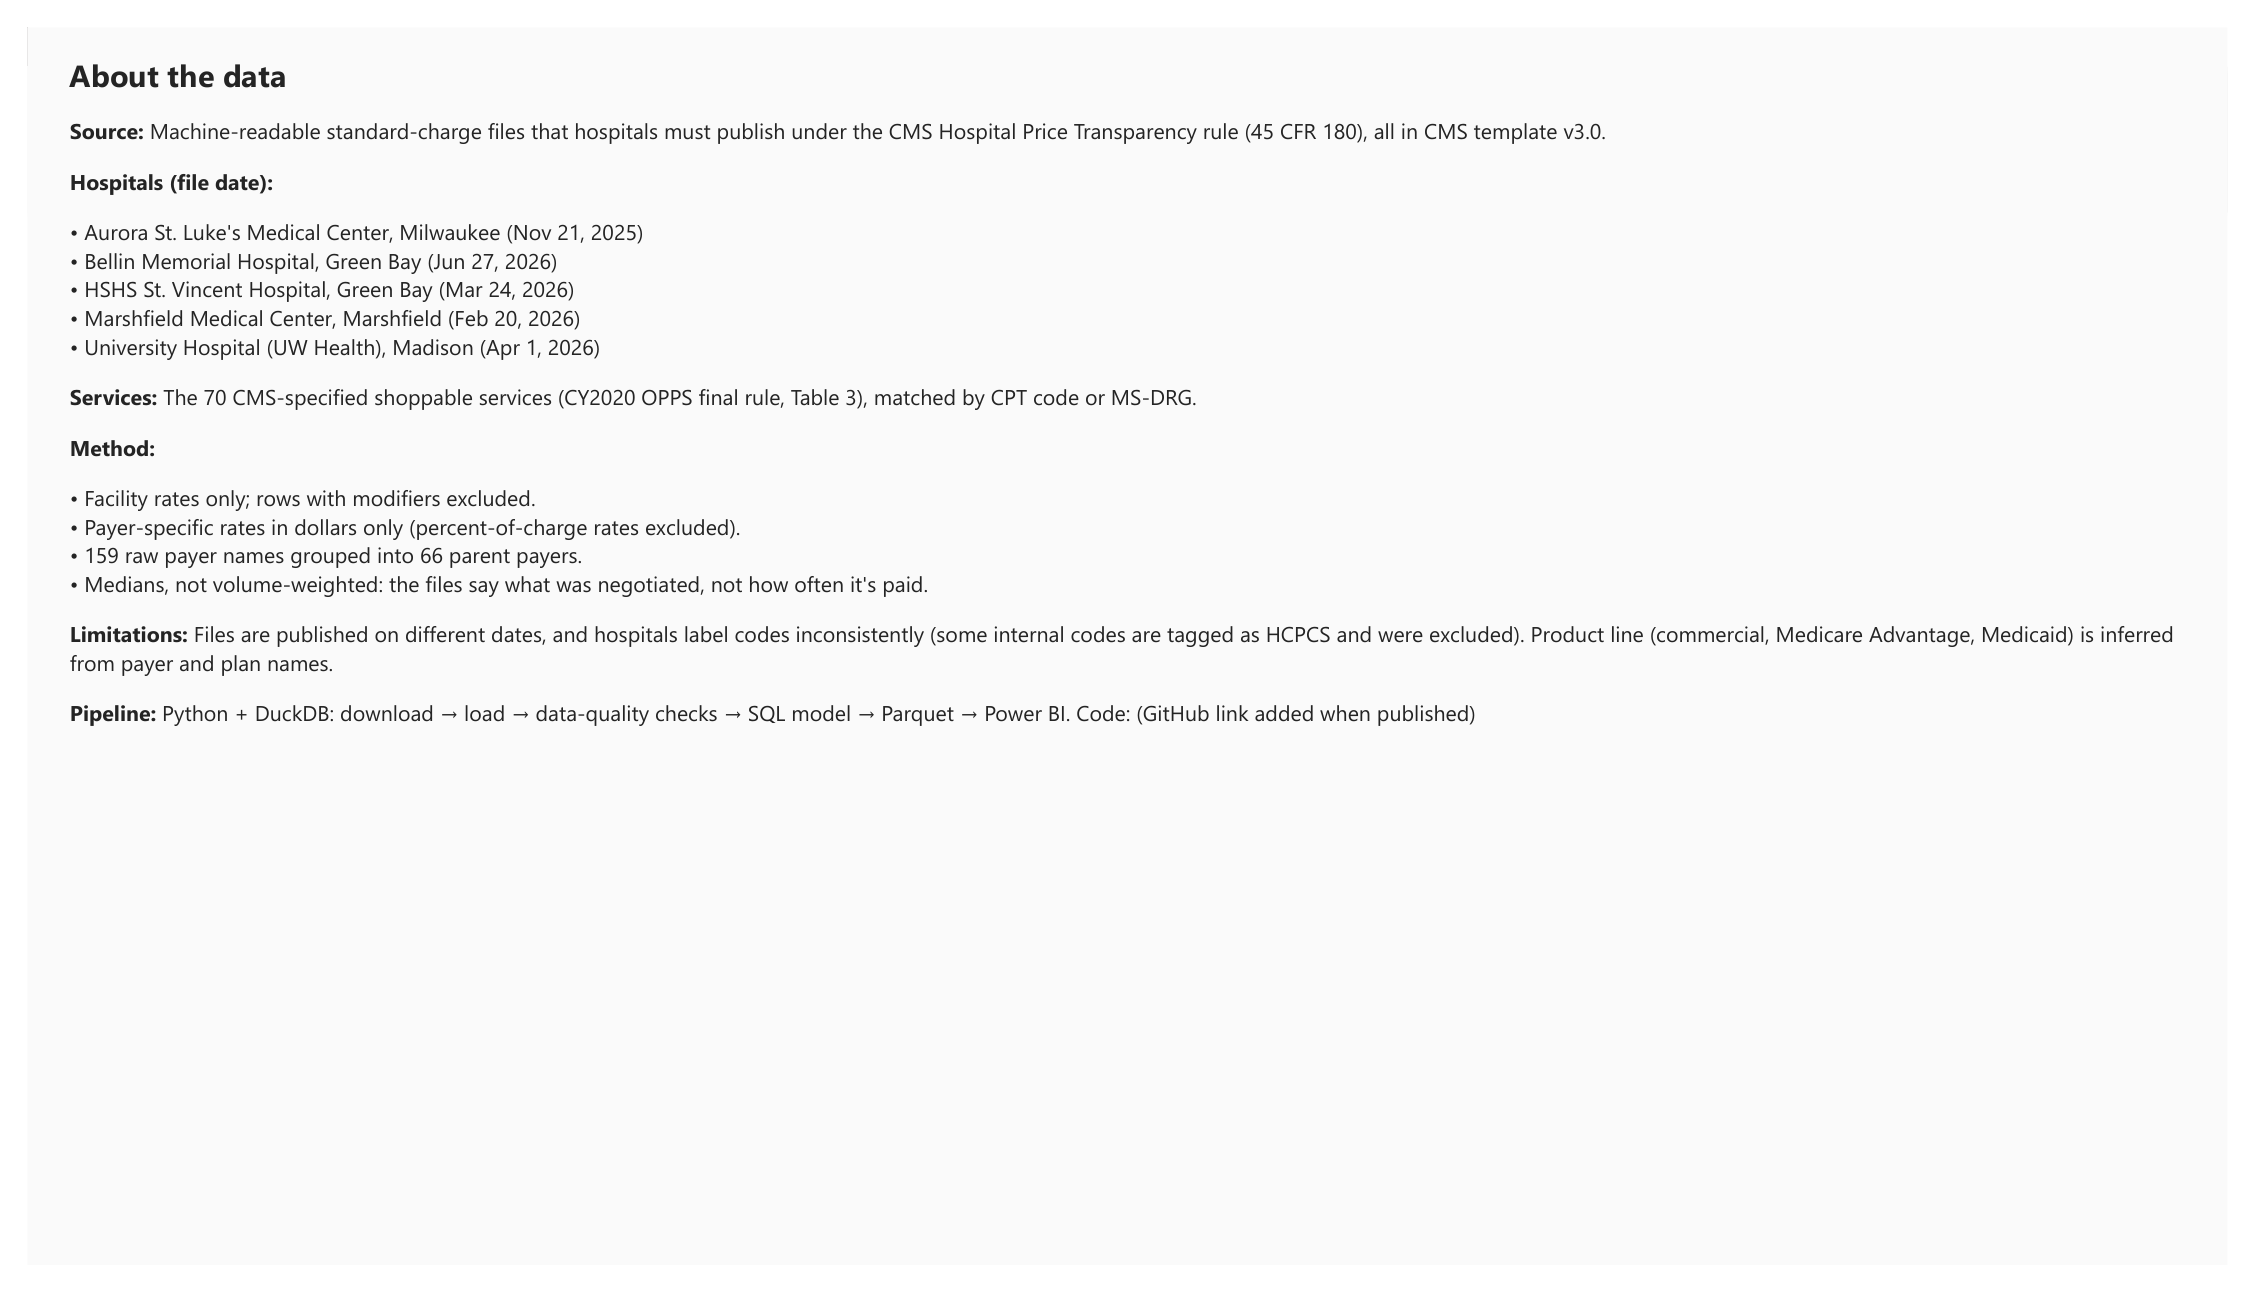

What the dashboard file says about the page in this screenshot:
{"tool":"powerbi","page":{"name":"About the Data","canvas":[1920,1080],"ordinal":3},"visuals":[{"type":"textbox","box":[36.7,22.9,1849.7,1008.1],"z":0}]}

Visuals, with their boxes in screenshot pixels (x1, y1, x2, y2), scaled from the page's 1920x1080 canvas onto the 2255x1293 screenshot:
textbox: [x1=43, y1=27, x2=2216, y2=1234]
